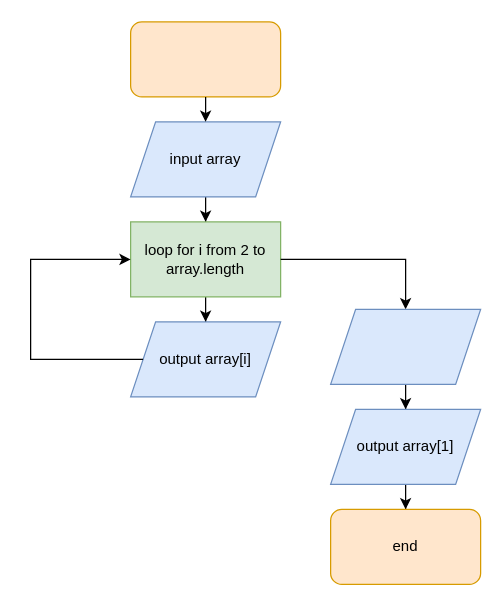
This 503x606 diagram has some shape labels left out. Each missing label, with the centre of its shape:
output array[0]: point (405, 346)
start: point (205, 59)
